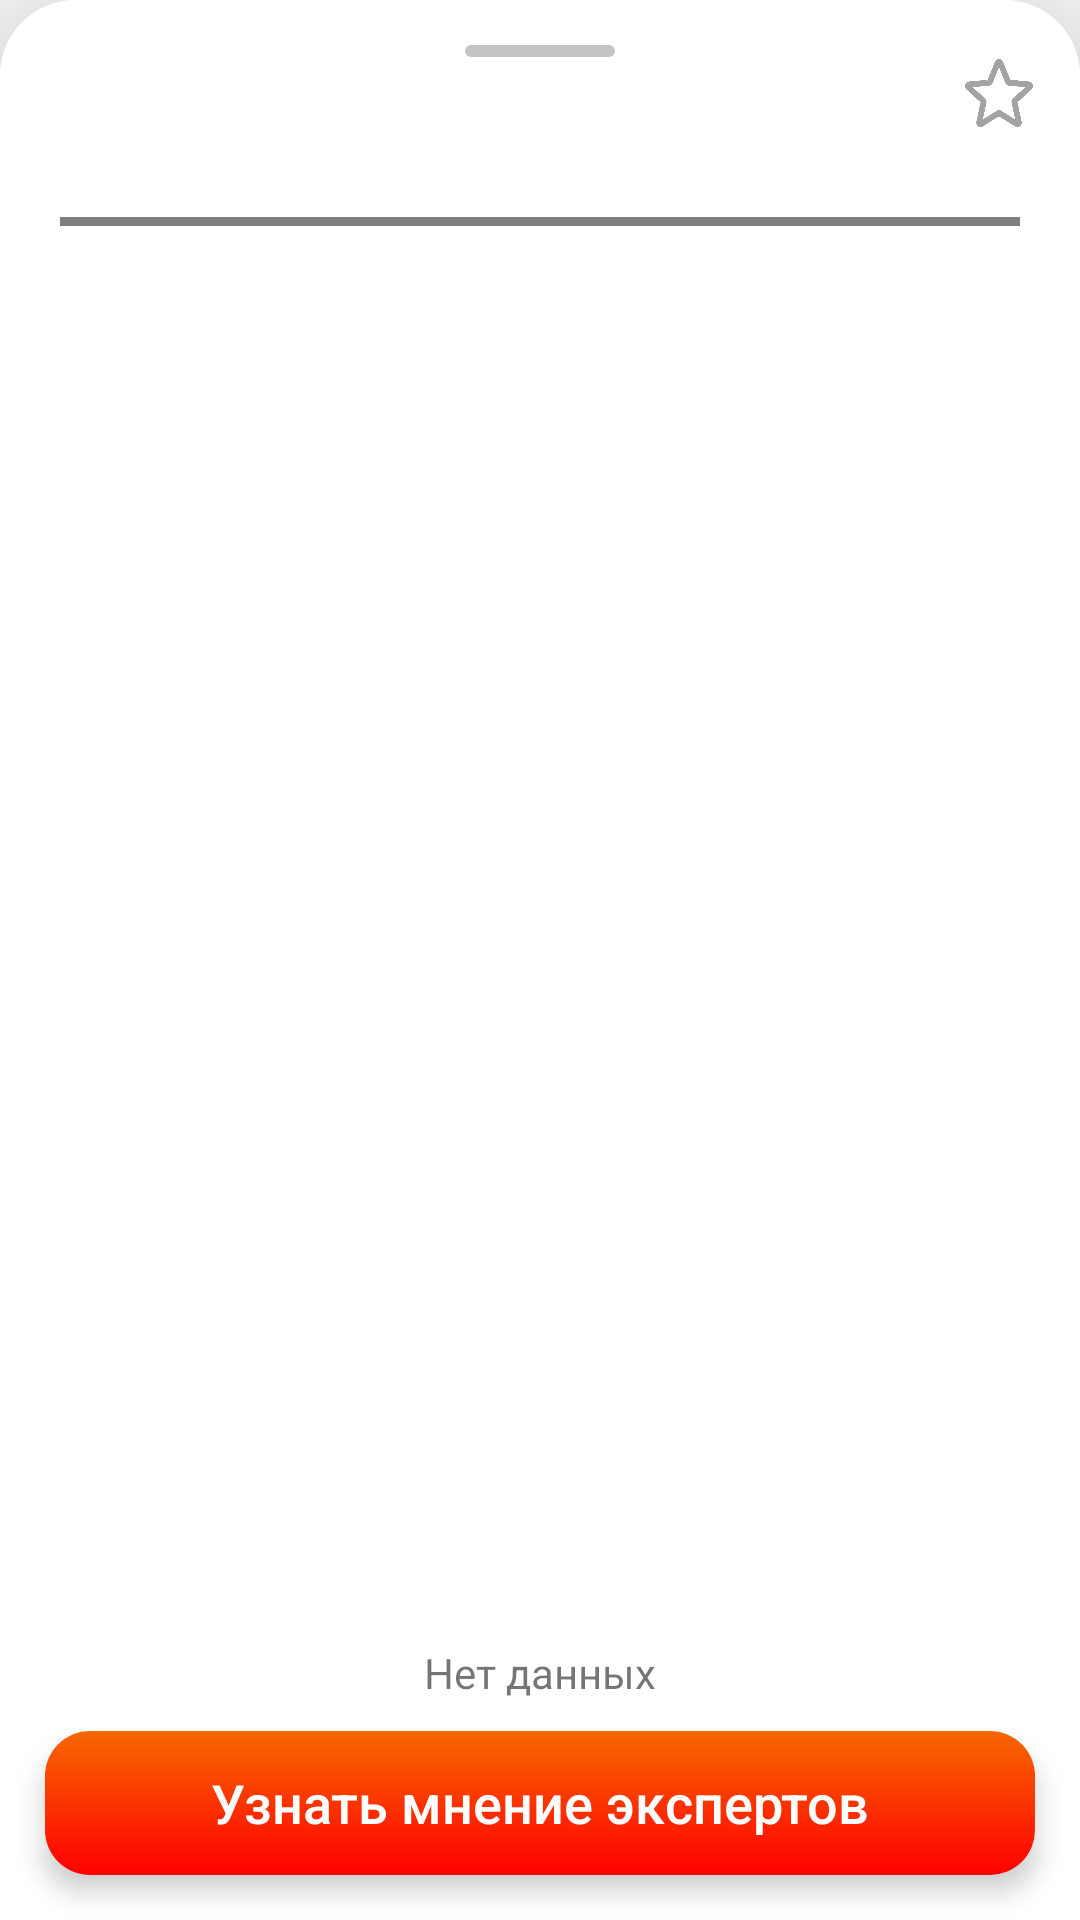

Named icons in this screenshot (1080 x 1920) and their bounding boxes, (x1, y1, x2, y2):
fav: (965, 59, 1033, 127)
